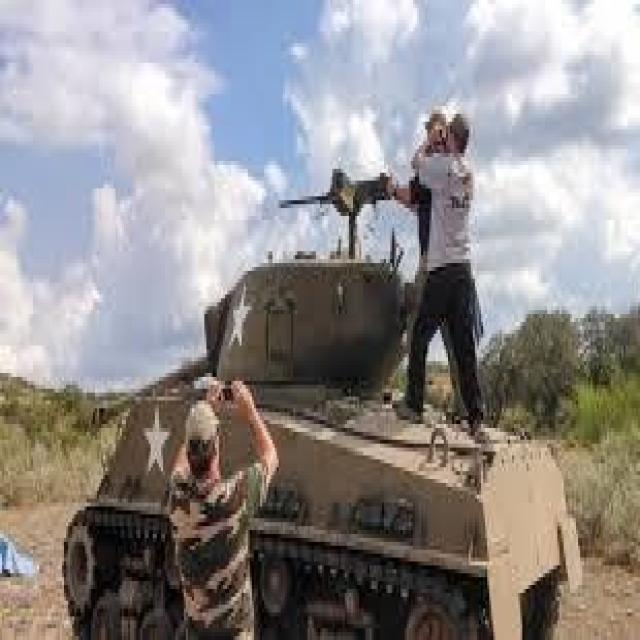MIL_MBT: (59, 291, 581, 632)
